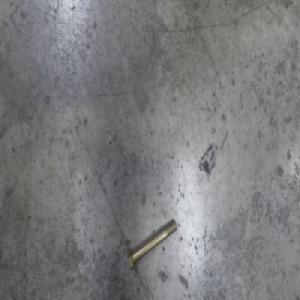Bolt: (125, 218, 175, 275)
